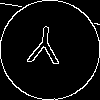Y: (25, 25, 62, 74)
